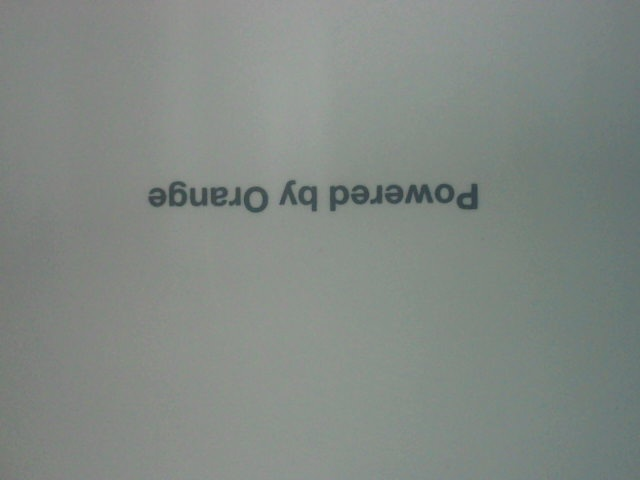AS_PowerByOrange: (133, 171, 485, 227)
